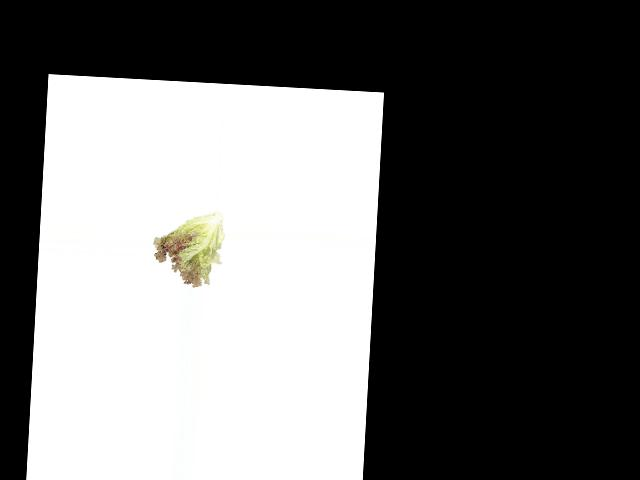lettuce: (152, 209, 224, 289)
